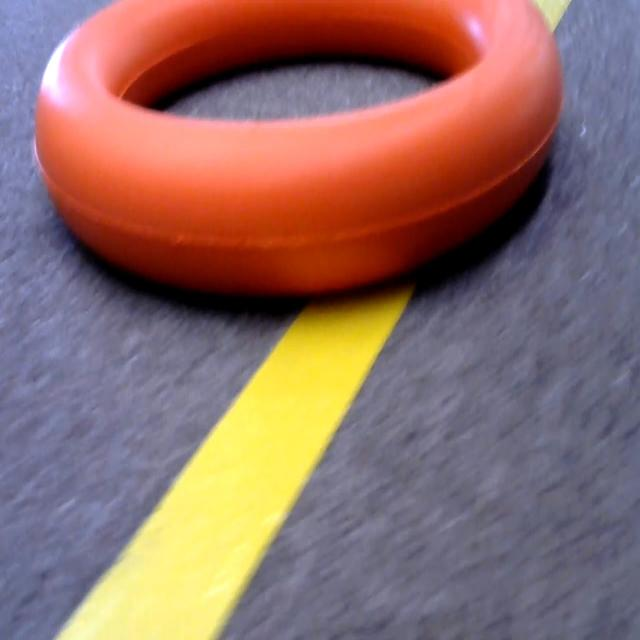note: (21, 0, 596, 290)
